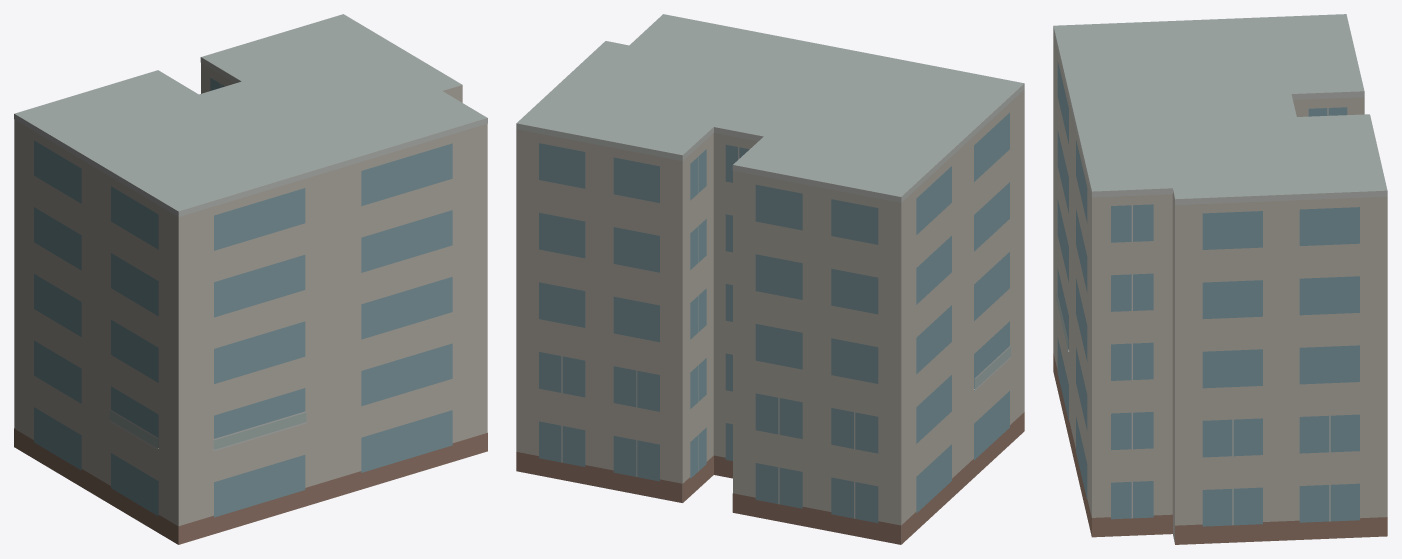
The model's file is survey-upis-32653398.glb.
3 renders of one model, left to right at view 1: azimuth 30°, elevation 25°; view 2: azimuth 150°, elevation 25°; view 3: azimuth 270°, elevation 25°, orthographic. The views are drawn at different scales.
Parts seen in each view (by area): view 1: survey-upis-32653398.tmp; view 2: survey-upis-32653398.tmp; view 3: survey-upis-32653398.tmp.
Part boxes in pixels (<box>): survey-upis-32653398.tmp: <box>14,14,487,544</box>; survey-upis-32653398.tmp: <box>516,14,1024,544</box>; survey-upis-32653398.tmp: <box>1053,14,1387,544</box>.
Size of the model in its own units: 16.55 by 14.4 by 12.63.
